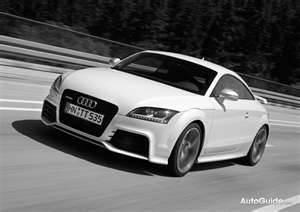car: (39, 48, 275, 180)
